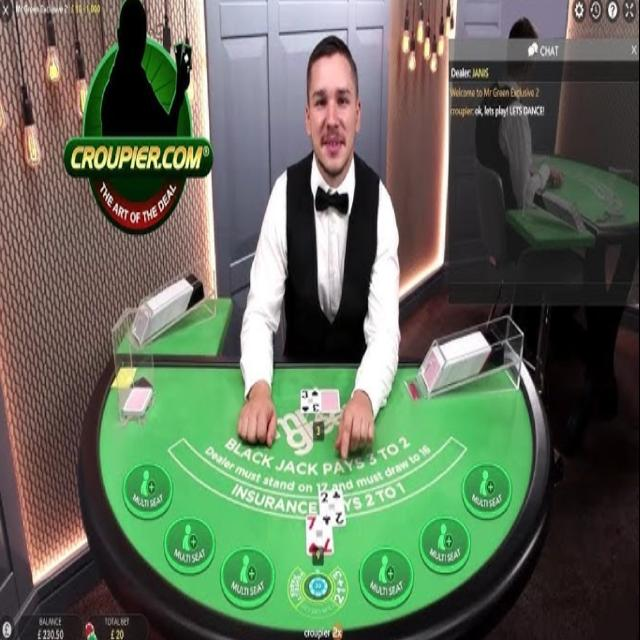Card-2: (318, 488, 346, 525)
Card-3: (299, 389, 321, 412)
Card-7: (306, 515, 333, 554)
